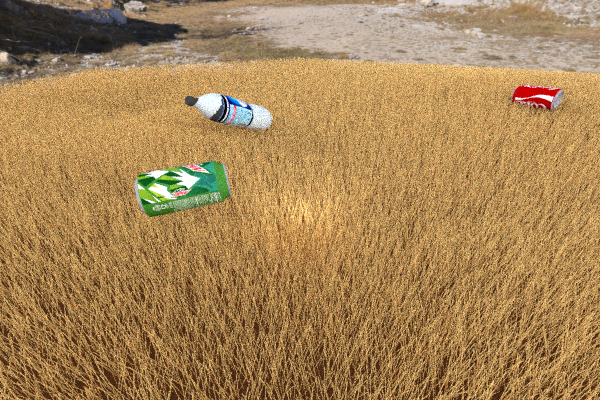bottle: (184, 93, 272, 131)
can: (134, 160, 231, 217), (511, 84, 563, 110)
